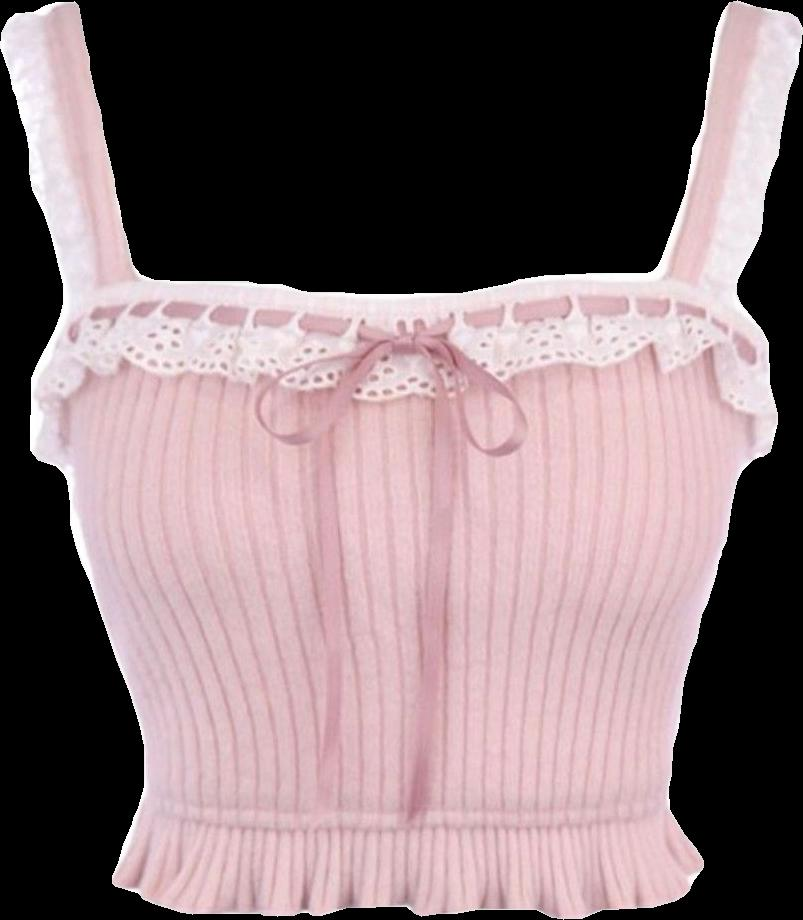Bodice: (1, 1, 801, 917)
Neckline: (66, 0, 737, 323), (58, 283, 753, 326), (137, 795, 674, 839)
Waistline: (23, 339, 771, 464), (109, 866, 711, 919)
